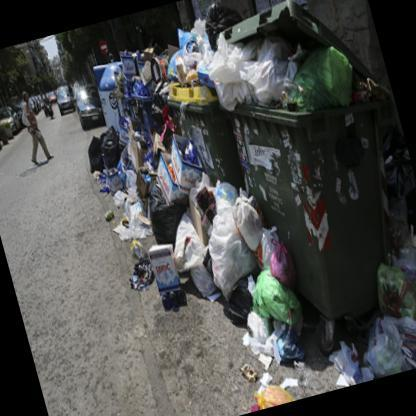Garbage: (204, 219, 317, 390), (88, 128, 214, 242), (161, 188, 265, 297), (212, 36, 344, 109), (104, 46, 180, 148), (322, 309, 415, 388), (367, 223, 415, 371), (158, 26, 219, 101), (82, 124, 133, 188)
